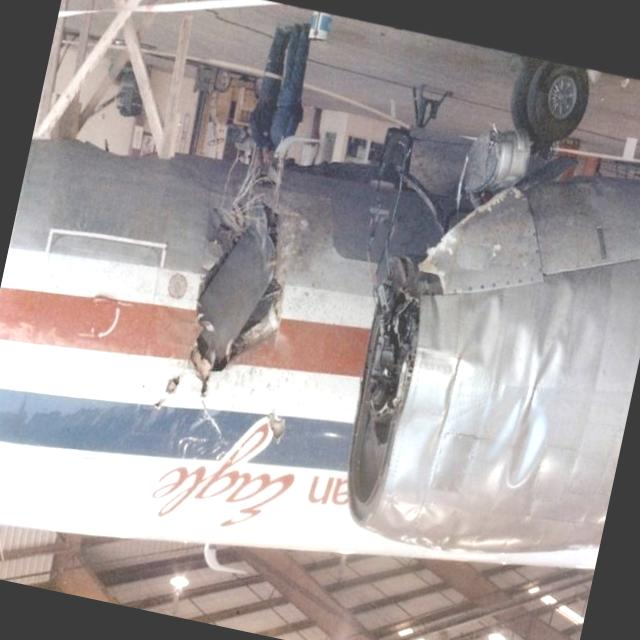dent: (388, 266, 593, 516)
